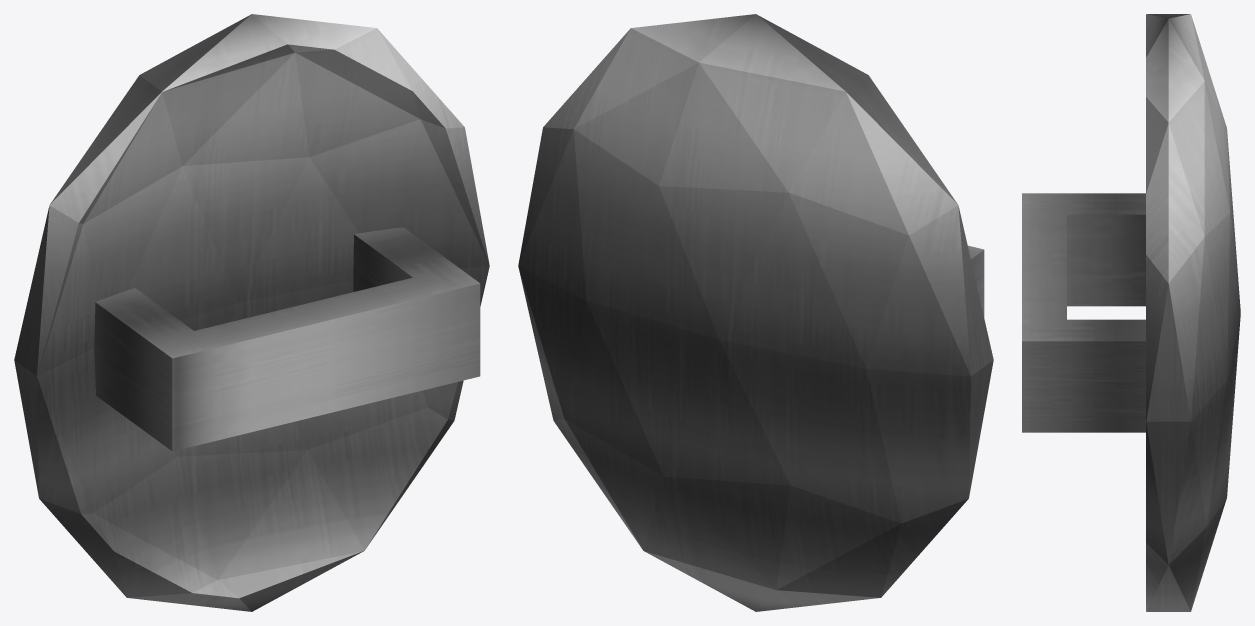
The model's file is Shield.obj.
The picture shows the model from 3 angles, left to right: view 1: azimuth 30°, elevation 25°; view 2: azimuth 150°, elevation 25°; view 3: azimuth 270°, elevation 25°; orthographic projection.
Visible parts, largest first — view 1: Icosphere; view 2: Icosphere; view 3: Icosphere.
Part boxes in pixels (<box>): Icosphere: <box>14,14,489,611</box>; Icosphere: <box>518,14,993,611</box>; Icosphere: <box>1022,14,1240,611</box>.
Size of the model in its own units: 2.85 by 3.6 by 1.21.
